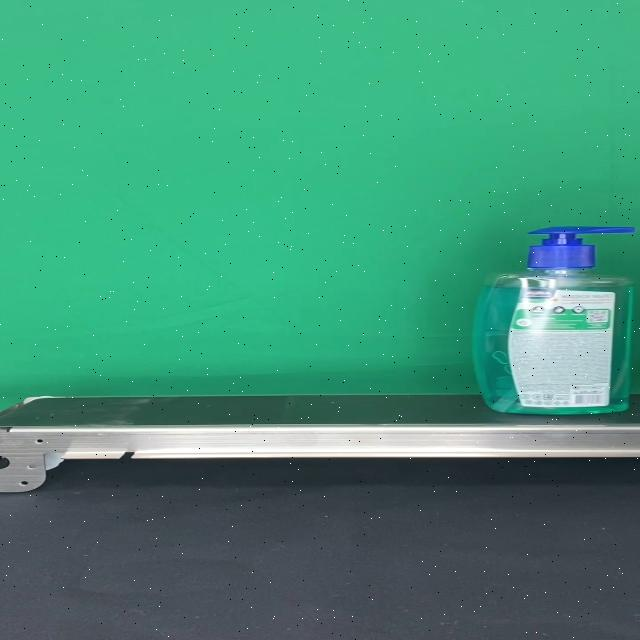Bottle: (472, 227, 635, 414)
Cap: (526, 226, 636, 268)
